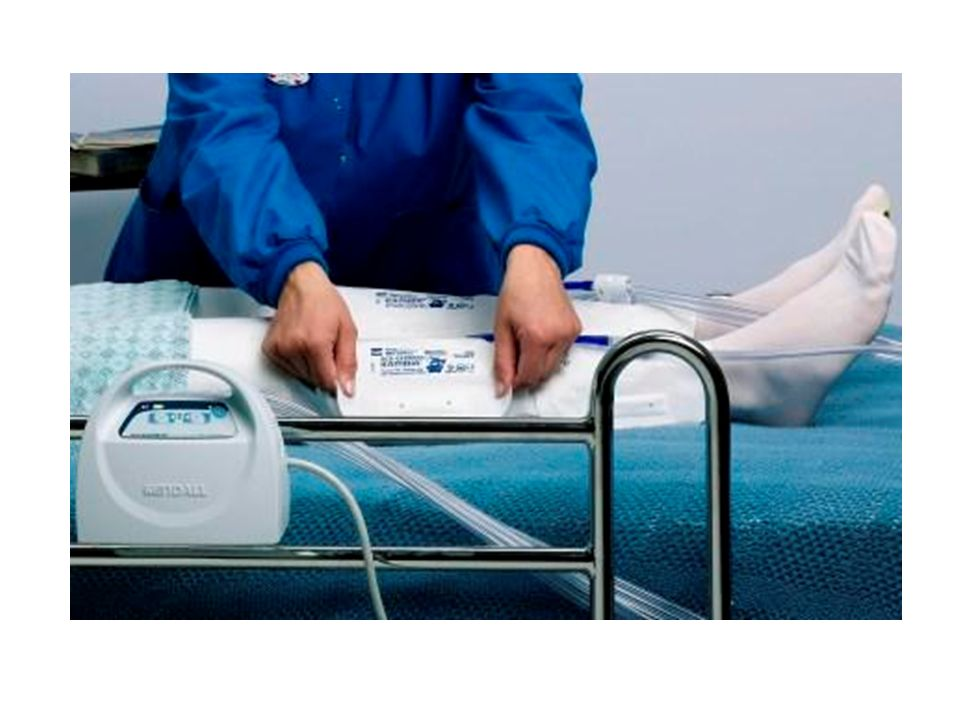bedrail: (71, 325, 743, 621)
patient: (71, 182, 898, 441)
sequential_compression: (71, 275, 710, 568)
staff: (103, 73, 598, 396)
